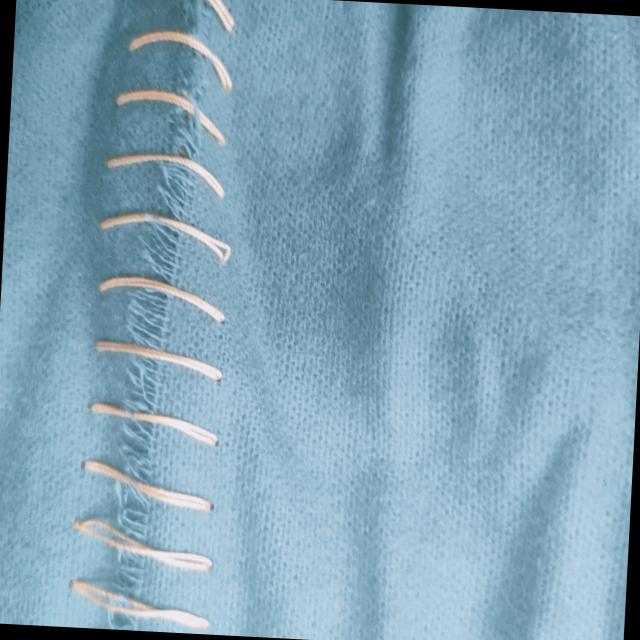gray stitch: (67, 0, 256, 635)
